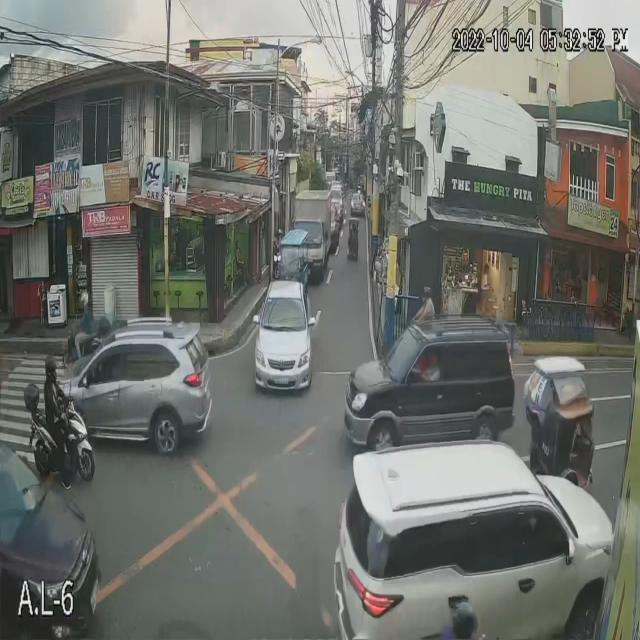full: (44, 358, 58, 380), (78, 290, 90, 310)
